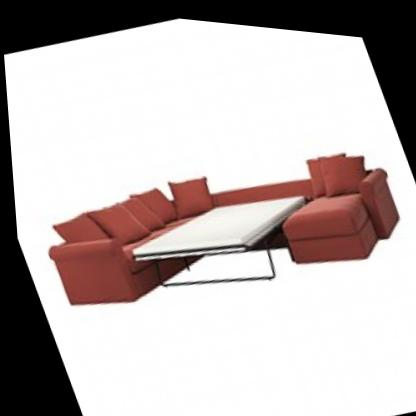Sofa: (14, 95, 416, 353)
